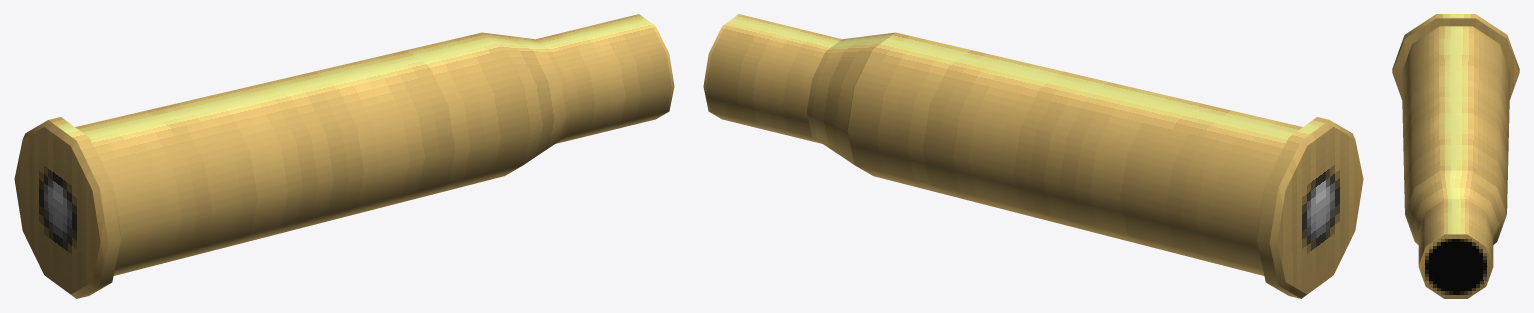
File: ammomaker_CasingBottleneckMRim.fbx
3 renders of one model, left to right at view 1: azimuth 30°, elevation 25°; view 2: azimuth 150°, elevation 25°; view 3: azimuth 270°, elevation 25°, orthographic. The views are drawn at different scales.
Parts seen in each view (by area): view 1: ammomaker_CasingBottleneckMRim; view 2: ammomaker_CasingBottleneckMRim; view 3: ammomaker_CasingBottleneckMRim.
Boxes of the visible parts, x1,y1,x2,y2 form: ammomaker_CasingBottleneckMRim: [14, 14, 674, 298]; ammomaker_CasingBottleneckMRim: [703, 14, 1363, 298]; ammomaker_CasingBottleneckMRim: [1392, 14, 1519, 298].
Bounding box in the file's own units: 5.37 × 1.38 × 1.45.
